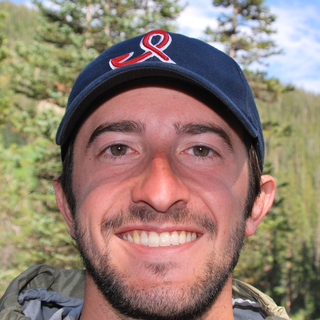eye: (176, 140, 223, 164), (95, 140, 141, 163)
